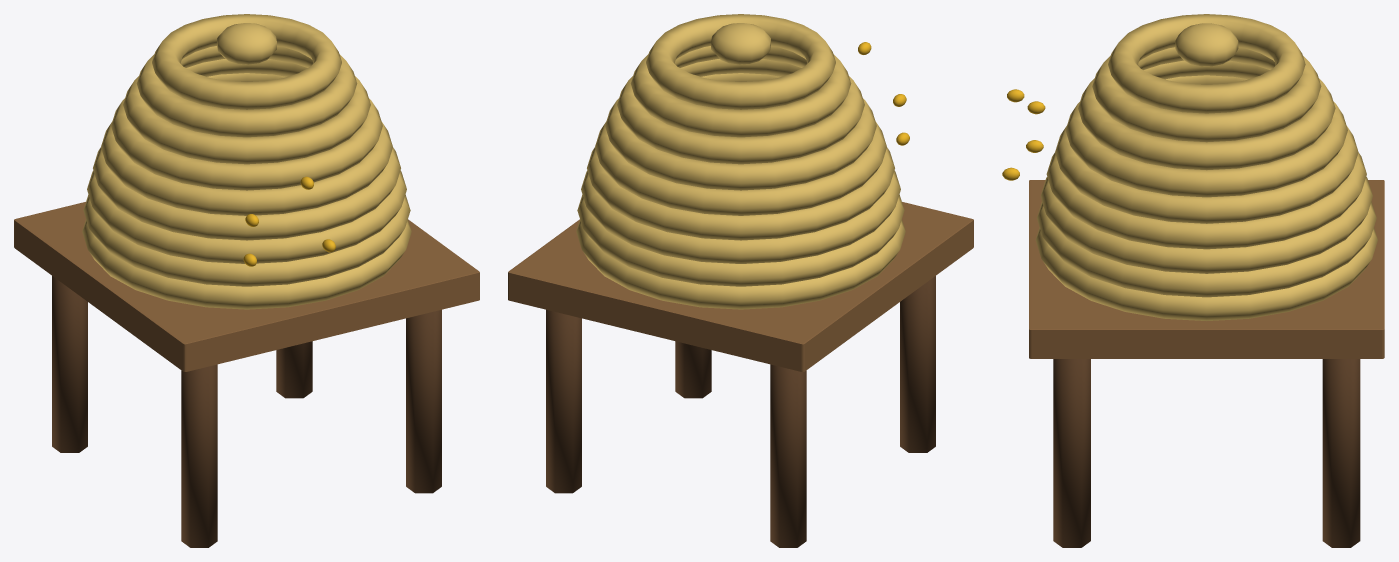
Rendered from bienenstock.glb.
3 renders of one model, left to right at view 1: azimuth 30°, elevation 25°; view 2: azimuth 150°, elevation 25°; view 3: azimuth 270°, elevation 25°, orthographic. The views are drawn at different scales.
Parts seen in each view (by area): view 1: Cone; view 2: Cone; view 3: Cone.
Part boxes in pixels (x1,y1,x2,y2): Cone: (14,14,479,547); Cone: (508,14,973,547); Cone: (1002,14,1384,547).
Size of the model in its own units: 0.66 by 0.936 by 0.7094.
